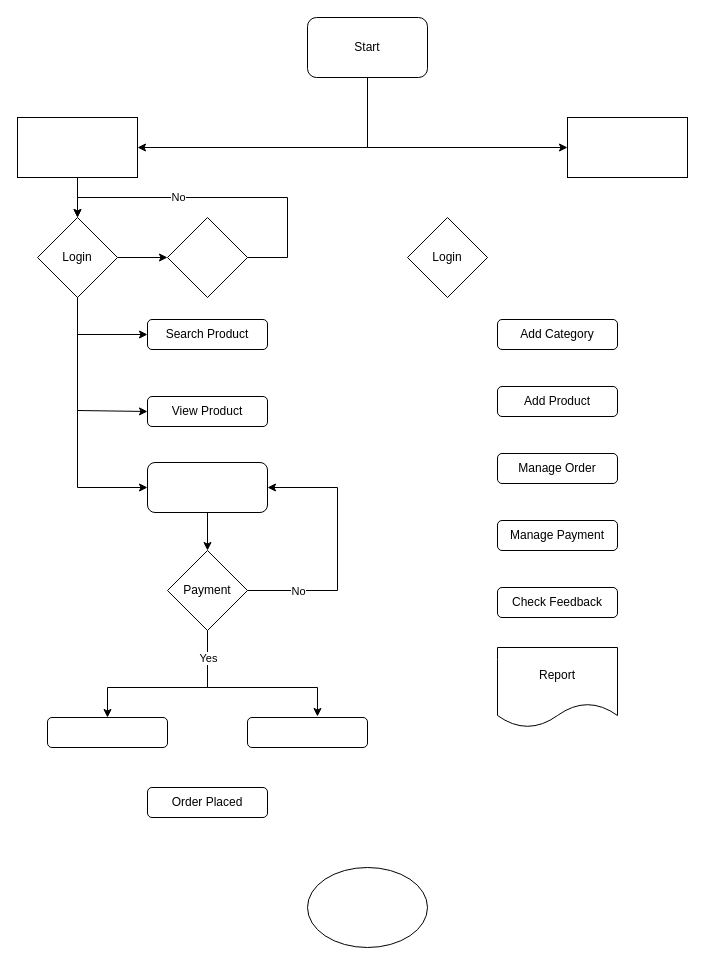
Image size: 705x965. Some labels were removed from this diagram. The shapes that lost their labels are listed below. From the top down, each one's box as (x1, y1, x2, y2) in pixels, then its label:
(16, 116, 138, 178): User
(566, 116, 688, 178): Admin
(166, 216, 248, 298): Register
(146, 462, 268, 512): Buy Product and Add to Cart
(46, 716, 168, 748): Online Pay
(246, 716, 368, 748): Cash On Delivery
(306, 866, 428, 948): Stop
